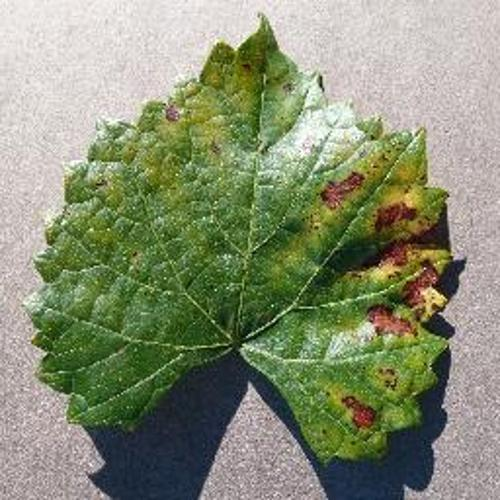Grape: (24, 14, 450, 465)
